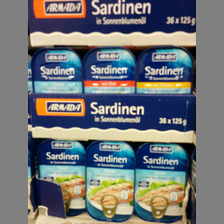fish: (133, 143, 189, 224), (86, 141, 134, 223), (36, 138, 86, 213), (134, 46, 194, 94), (84, 48, 138, 95), (33, 50, 85, 91)
